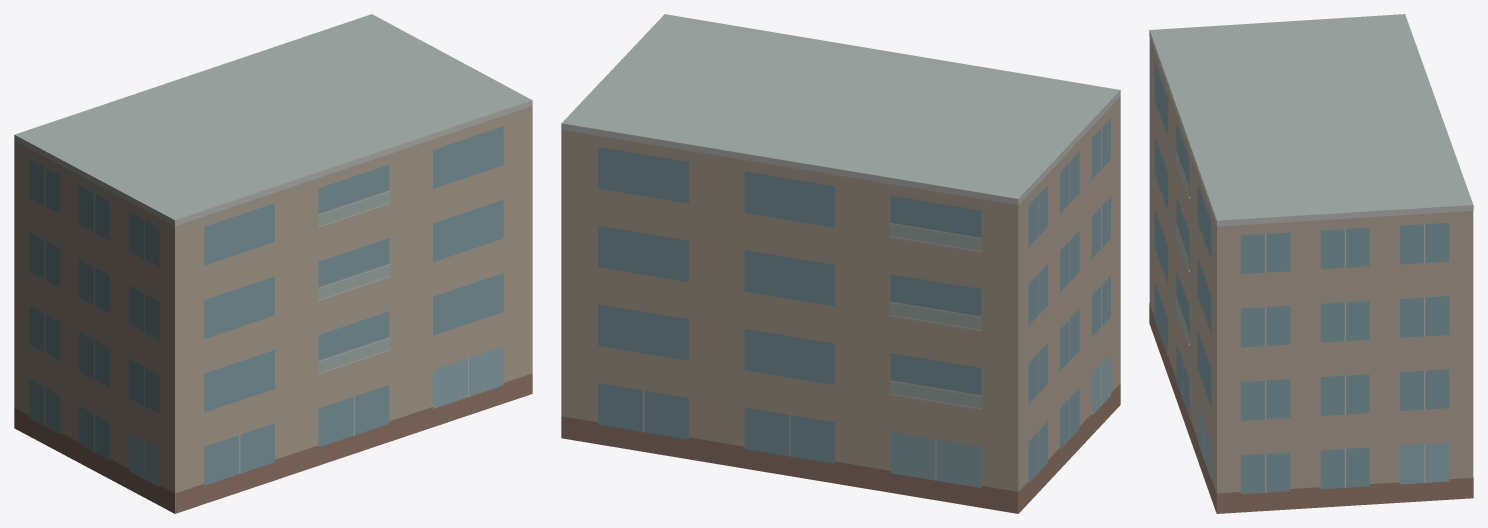
File: survey-upis-32724156.glb
3 renders of one model, left to right at view 1: azimuth 30°, elevation 25°; view 2: azimuth 150°, elevation 25°; view 3: azimuth 270°, elevation 25°, orthographic. The views are drawn at different scales.
Parts seen in each view (by area): view 1: survey-upis-32724156.tmp; view 2: survey-upis-32724156.tmp; view 3: survey-upis-32724156.tmp.
Part boxes in pixels (left/top/right/bottom): survey-upis-32724156.tmp: left=14, top=14, right=532, bottom=513; survey-upis-32724156.tmp: left=561, top=14, right=1120, bottom=513; survey-upis-32724156.tmp: left=1149, top=14, right=1473, bottom=513.
Bounding box in the file's own units: 18.45 × 12.2 × 12.23.
